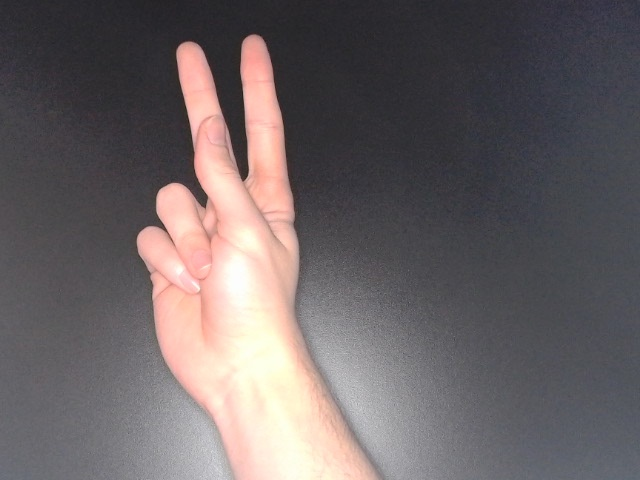k: (132, 30, 304, 439)
